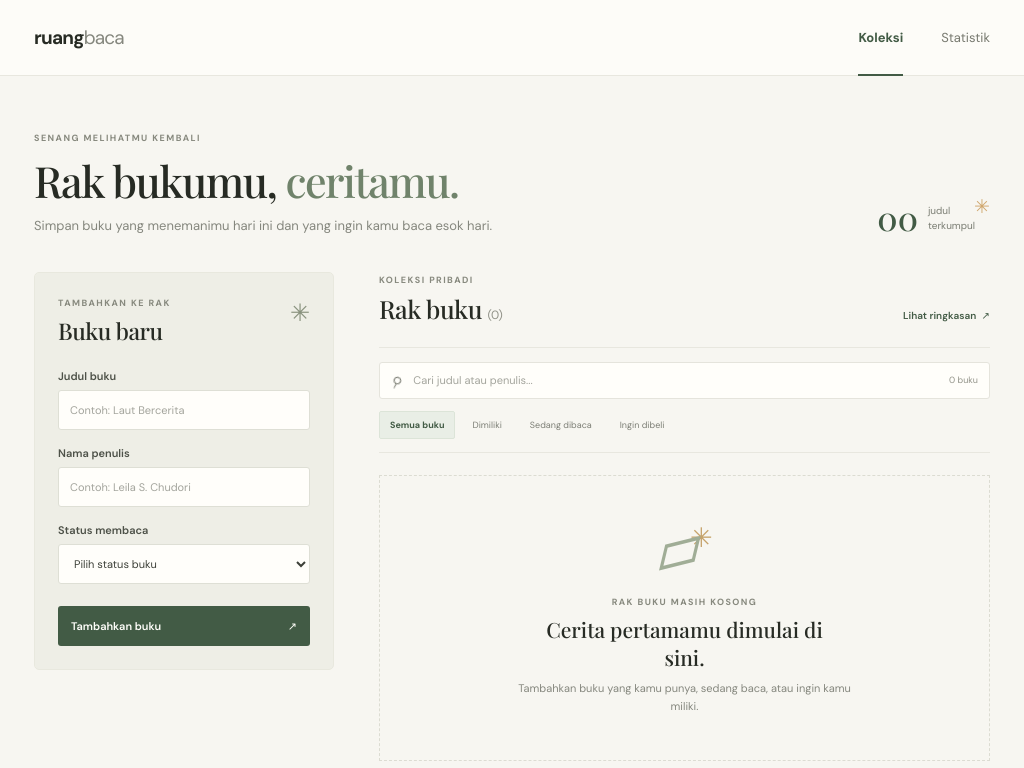
Test case: Aplikasi Ruang Baca › menghapus buku dari koleksi
Type "Laut Bercerita" into the field labelled "Judul buku".
click(184, 410); type("Laut Bercerita")  # box 58,390 -> 310,430
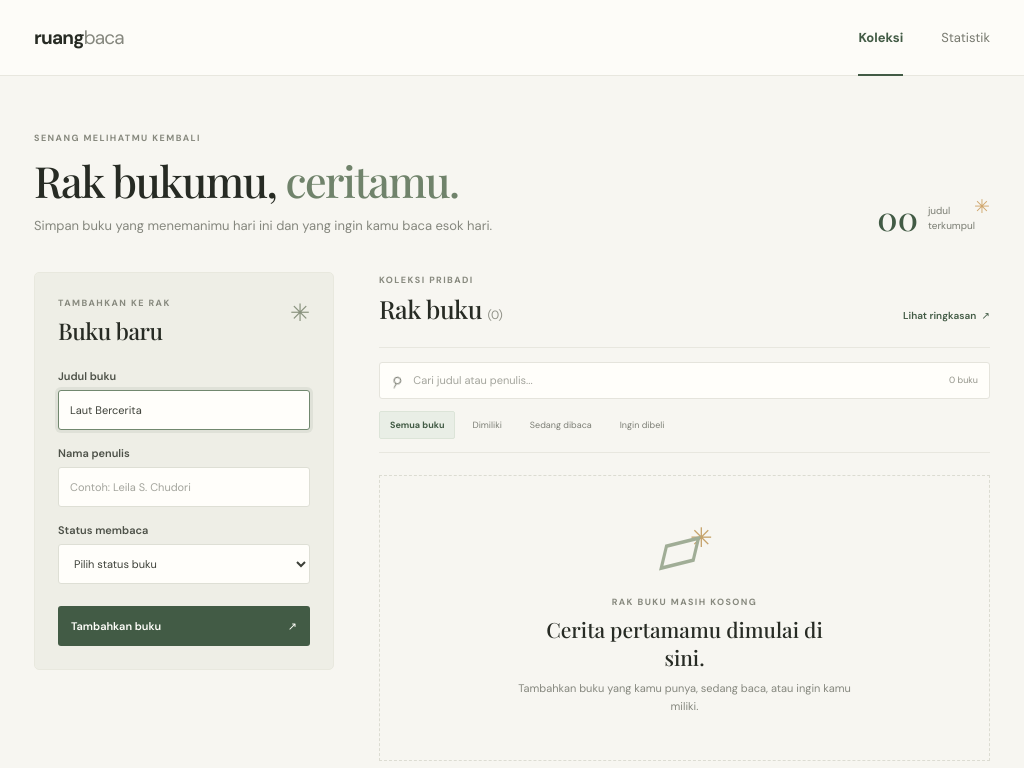
Type "Leila S. Chudori" into the field labelled "Nama penulis".
click(184, 487); type("Leila S. Chudori")  # box 58,467 -> 310,507
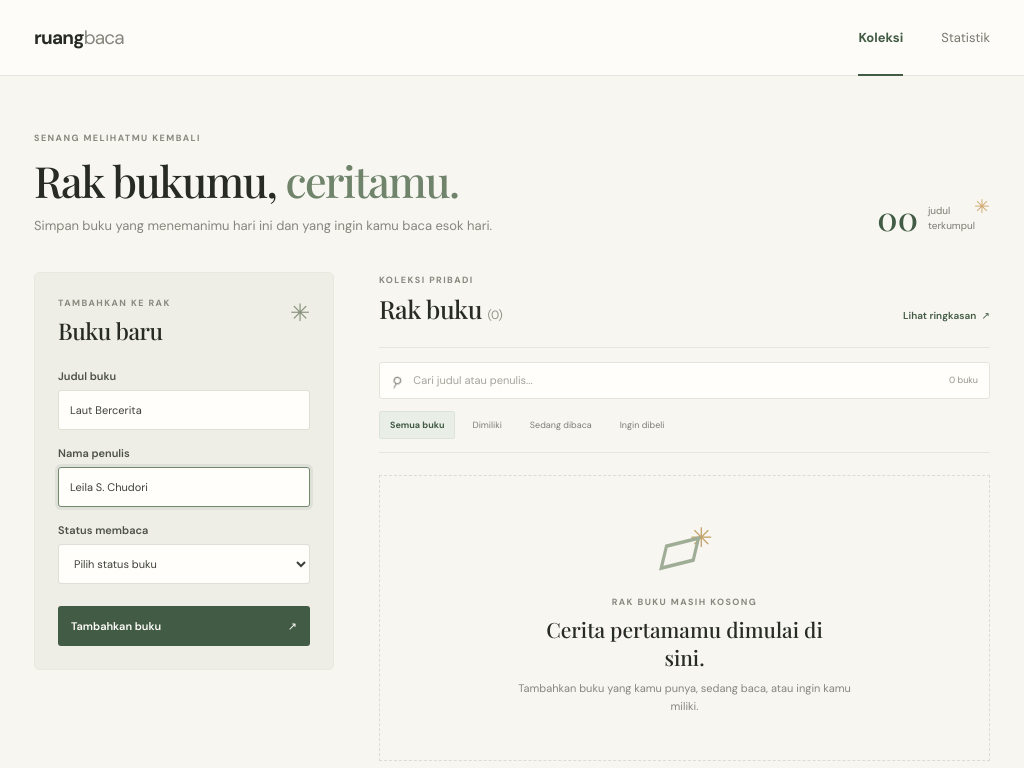
Select "Sedang dibaca" in the dropdown labelled "Status membaca" at (184, 564), box 58,544 -> 310,584
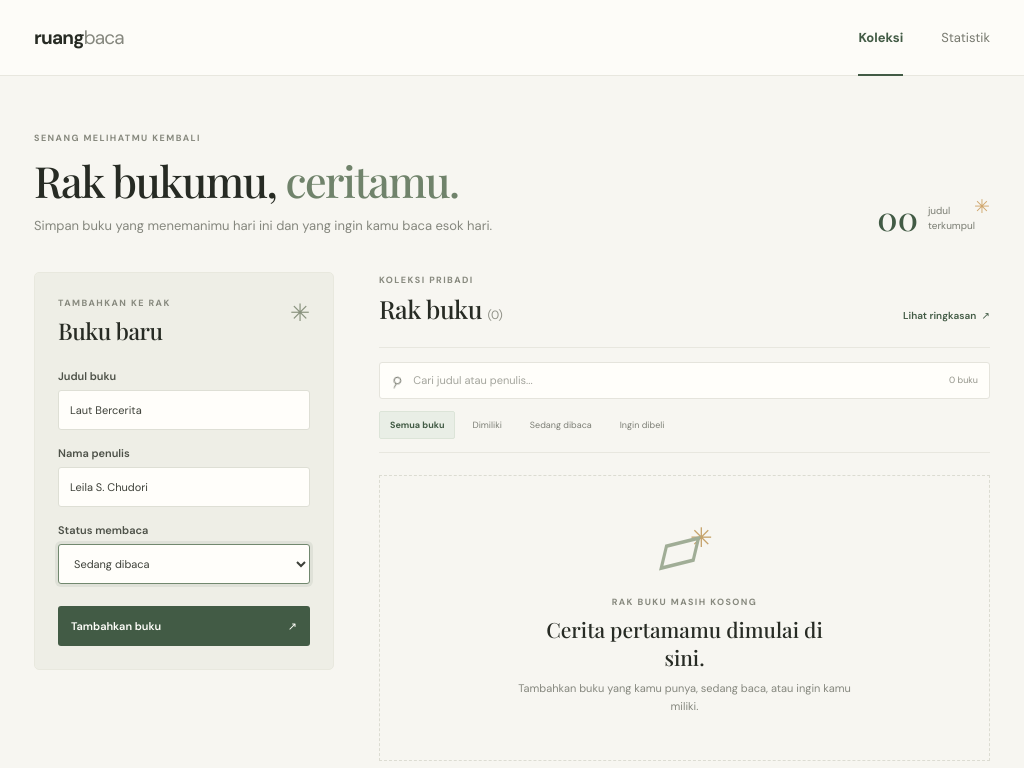
Click the button "Tambahkan buku ↗".
click(184, 626)  # box 58,606 -> 310,646
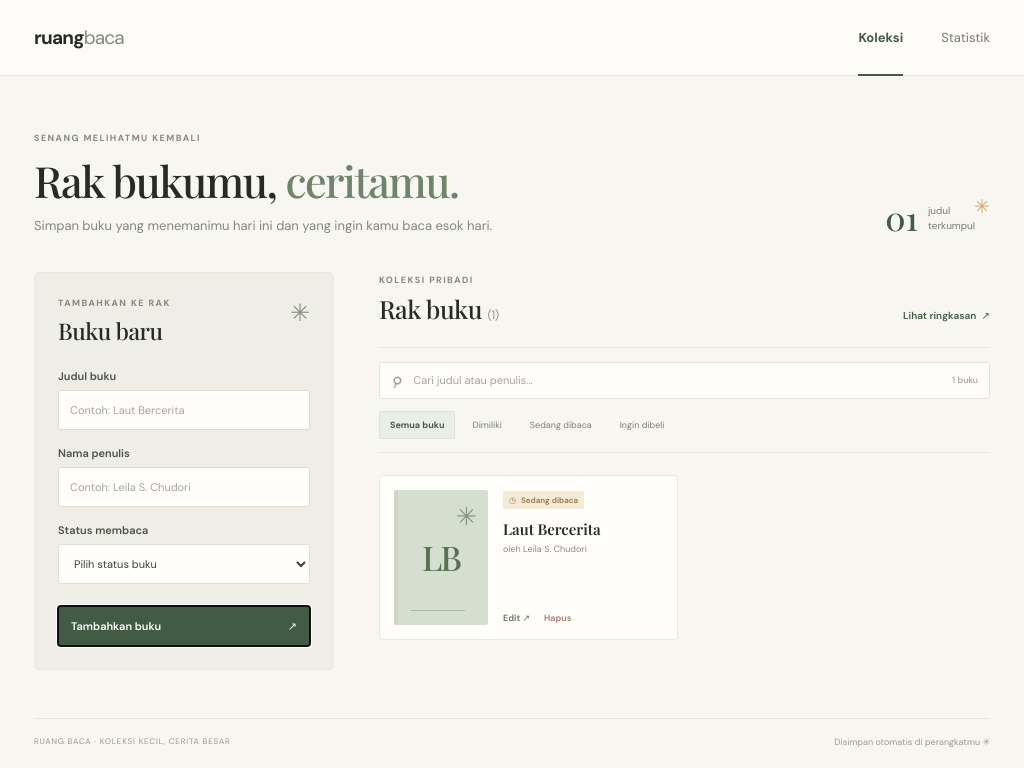
Click the button with aria-label "Hapus Laut Bercerita".
click(558, 618)  # box 544,612 -> 571,624
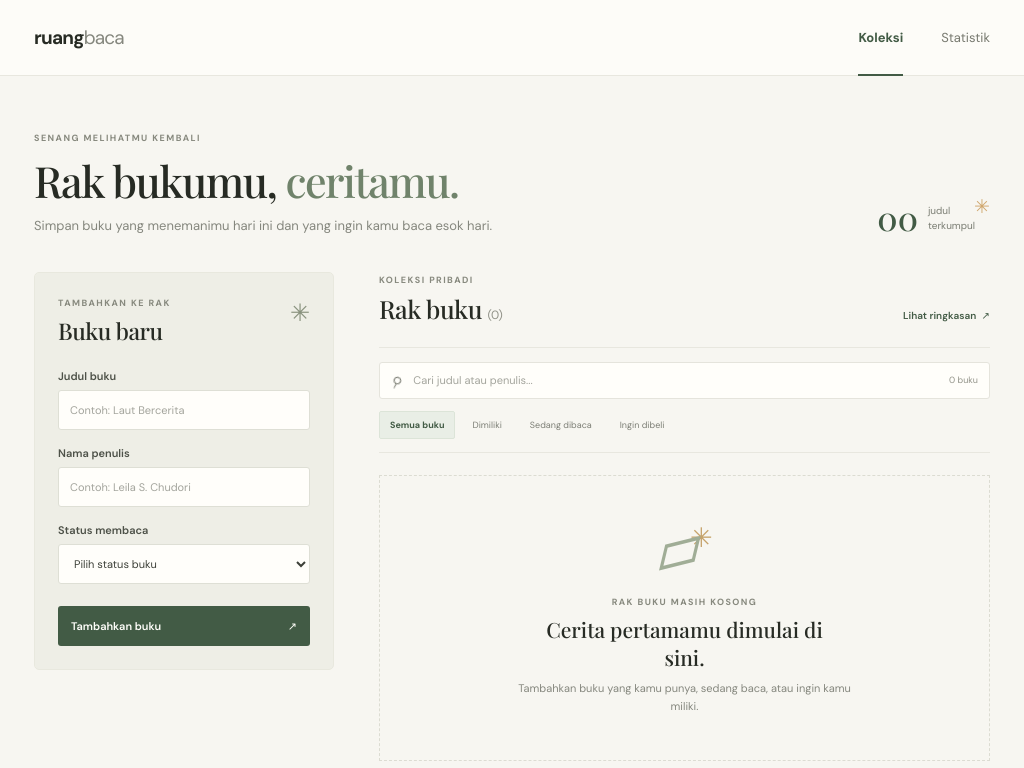
Expected: the heading "Cerita pertamamu dimulai di sini." is shown, 524,615 -> 844,671
